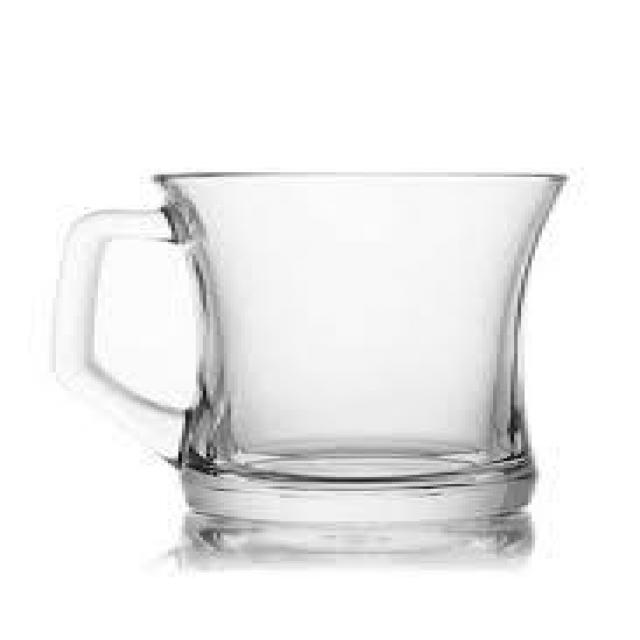non-organic waste: (46, 162, 584, 534)
